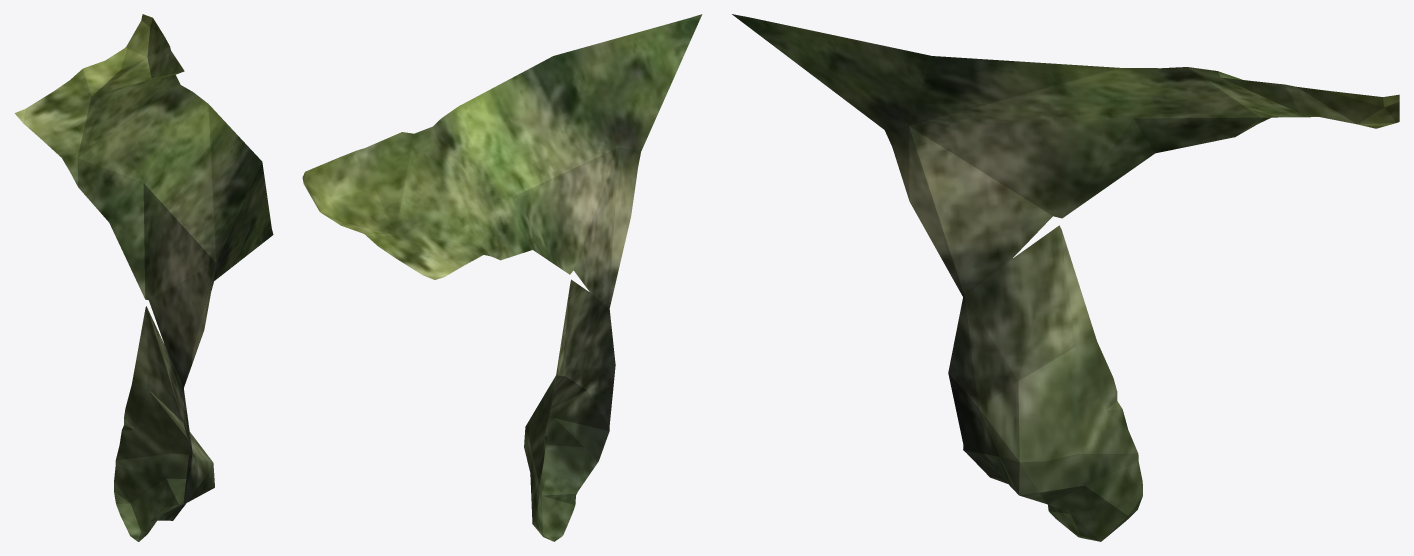
3 renders of one model, left to right at view 1: azimuth 30°, elevation 25°; view 2: azimuth 150°, elevation 25°; view 3: azimuth 270°, elevation 25°, orthographic. The views are drawn at different scales.
Size of the model in its own units: 2.23 by 6.56 by 7.59.
Materials: 1 (1 with a texture image).
